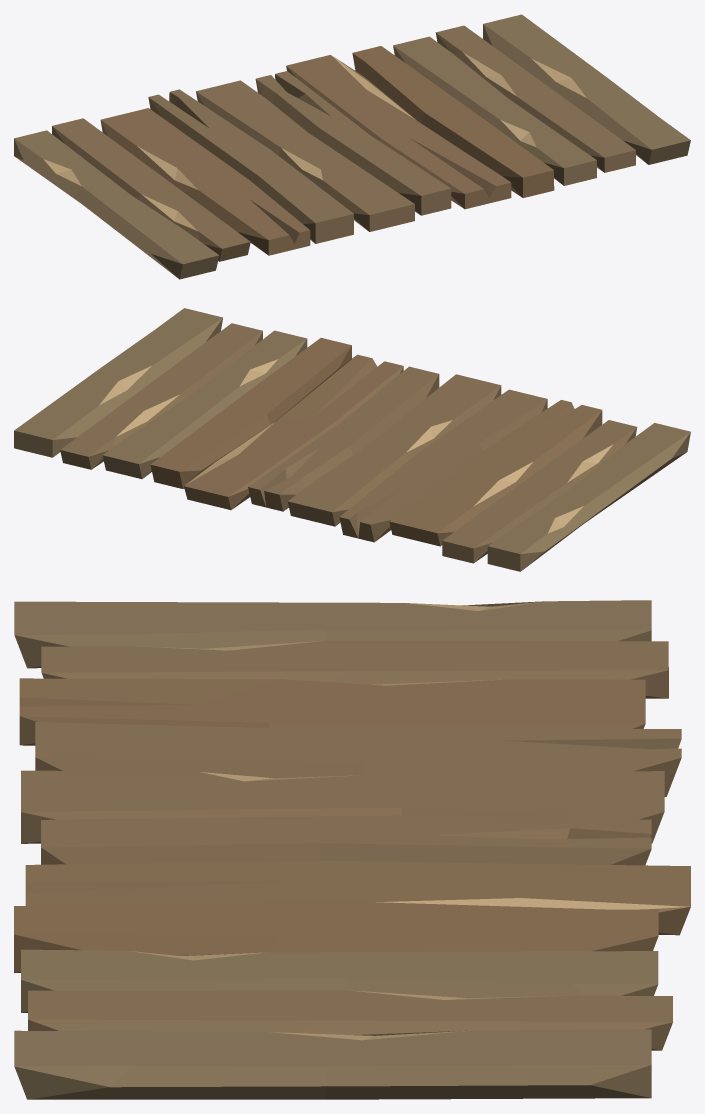
File: rpgpp_ag_wall_platform_01a_4m.fbx
The picture shows the model from 3 angles, top to bottom: view 1: azimuth 30°, elevation 25°; view 2: azimuth 150°, elevation 25°; view 3: azimuth 270°, elevation 25°; orthographic projection. The views are drawn at different scales.
Visible parts, largest first — view 1: rpgpp_ag_wall_platform_01a_4m; view 2: rpgpp_ag_wall_platform_01a_4m; view 3: rpgpp_ag_wall_platform_01a_4m.
Boxes of the visible parts, x1=… form: rpgpp_ag_wall_platform_01a_4m: x1=14, y1=14, x2=690, y2=279; rpgpp_ag_wall_platform_01a_4m: x1=14, y1=308, x2=690, y2=571; rpgpp_ag_wall_platform_01a_4m: x1=14, y1=600, x2=690, y2=1099.
Bounding box in the file's own units: 4 × 0.1648 × 2.4.
